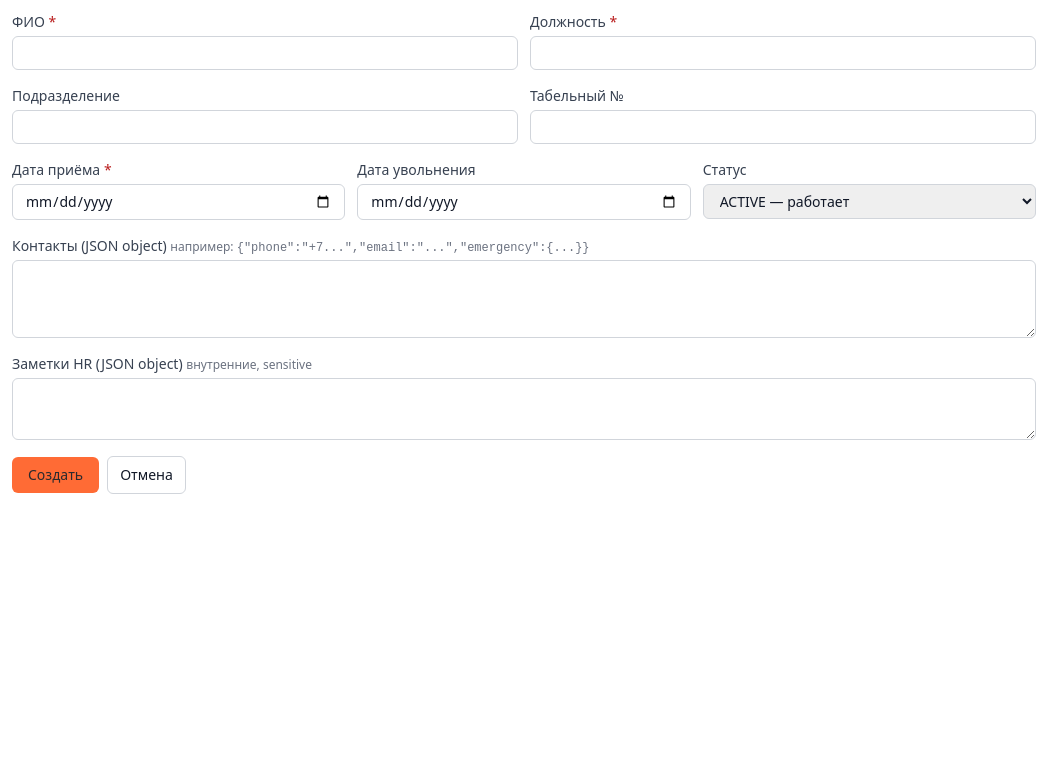
Test: EmployeeForm (create) › backend 422 → отображает status code и detail
This screenshot has width=1048, height=780.
Step 1. Type "Иванов И.И." into the field labelled "ФИО *" → (265, 53), box top-left (12, 36), bottom-right (518, 70)
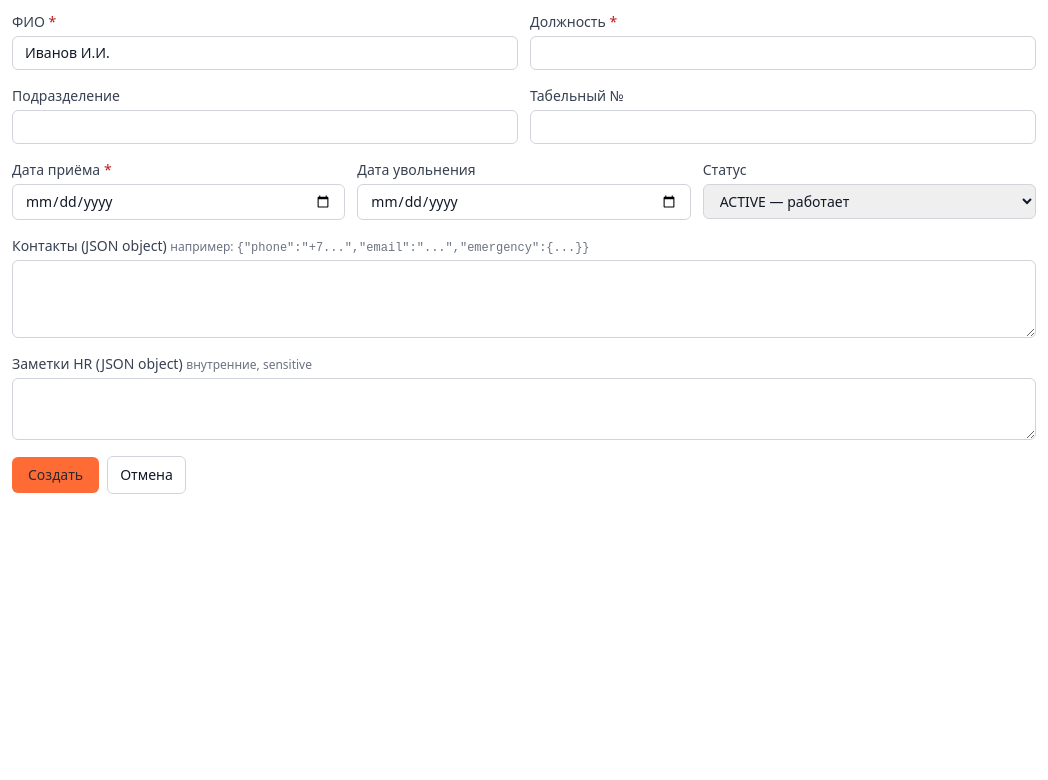
Step 2. Type "Менеджер" into the field labelled "Должность *" → (783, 53), box top-left (530, 36), bottom-right (1036, 70)
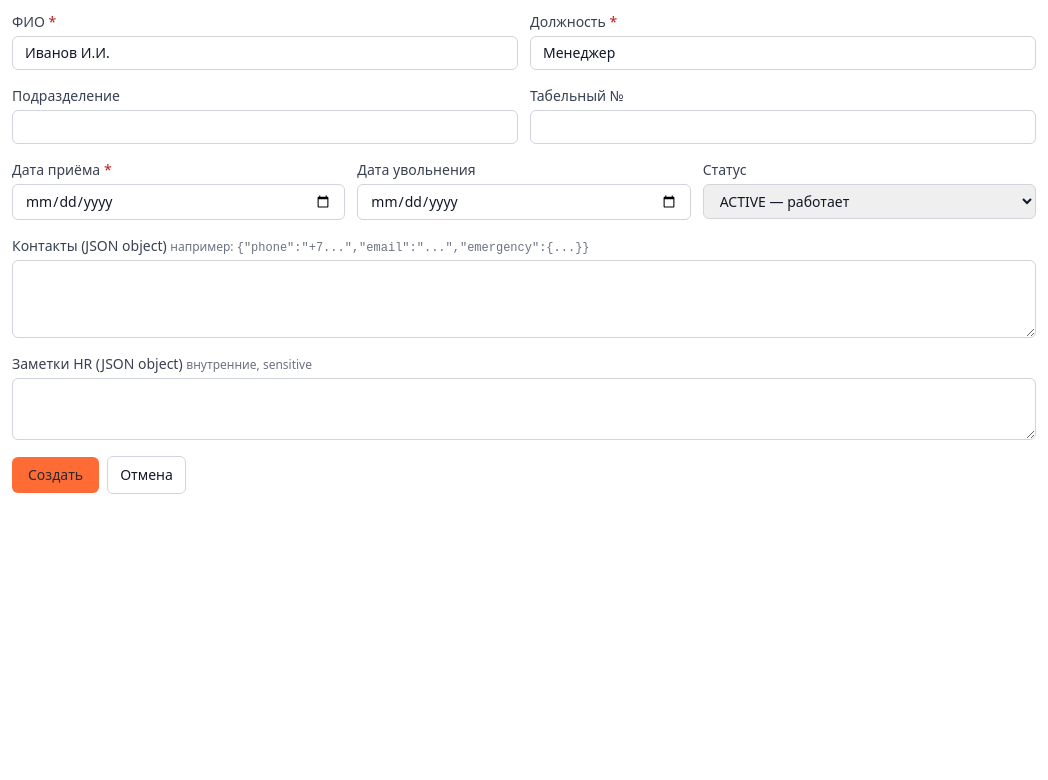
Step 3. Type "2026-01-15" into the date field labelled "Дата приёма *" → (179, 202), box top-left (12, 184), bottom-right (345, 220)
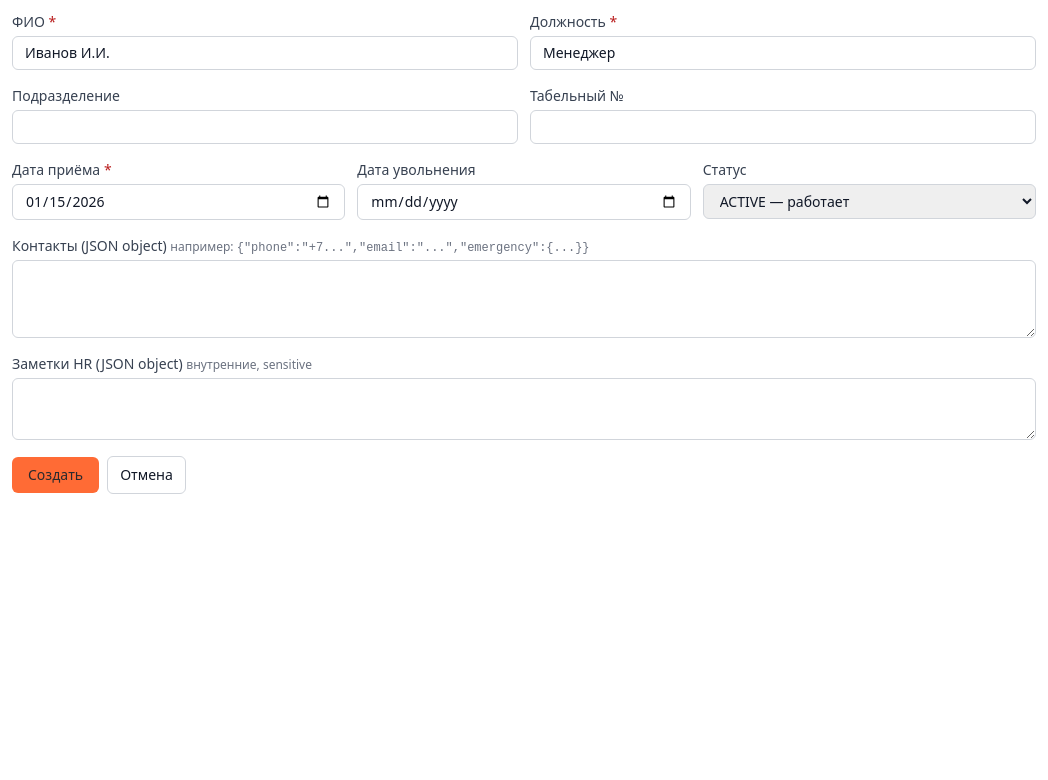
Step 4. Click the button "Создать" → (56, 475), box top-left (12, 457), bottom-right (99, 493)
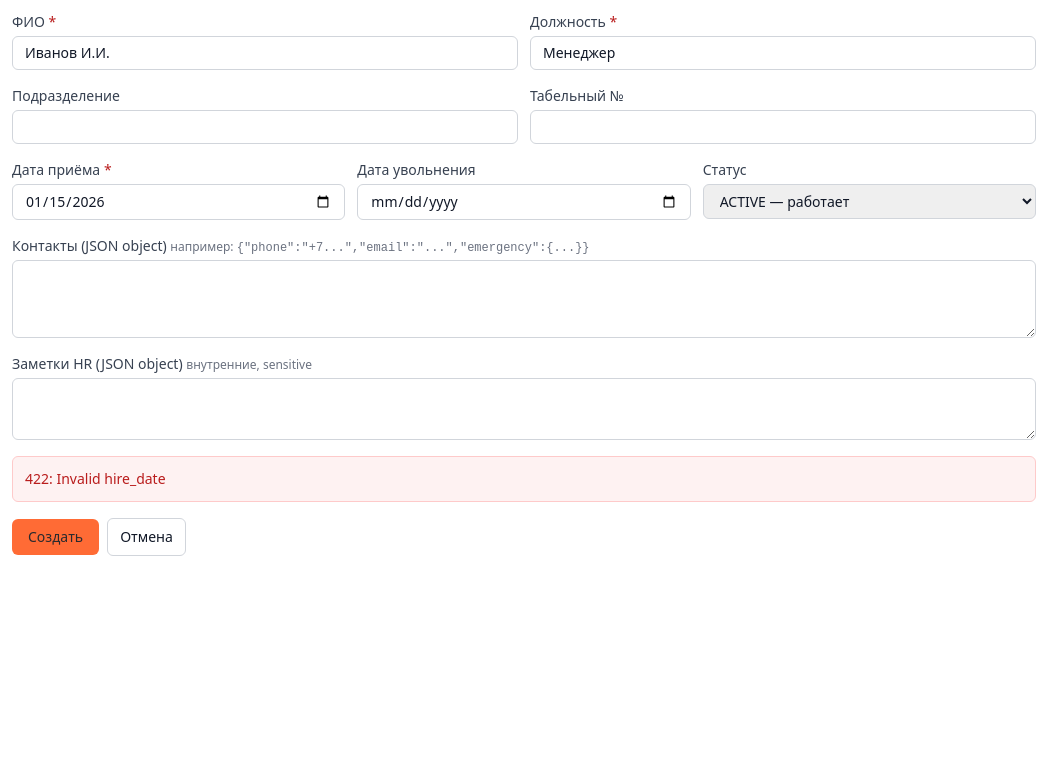
Expected: the message reads "422: Invalid hire_date", top-left (25, 469), bottom-right (166, 488)
